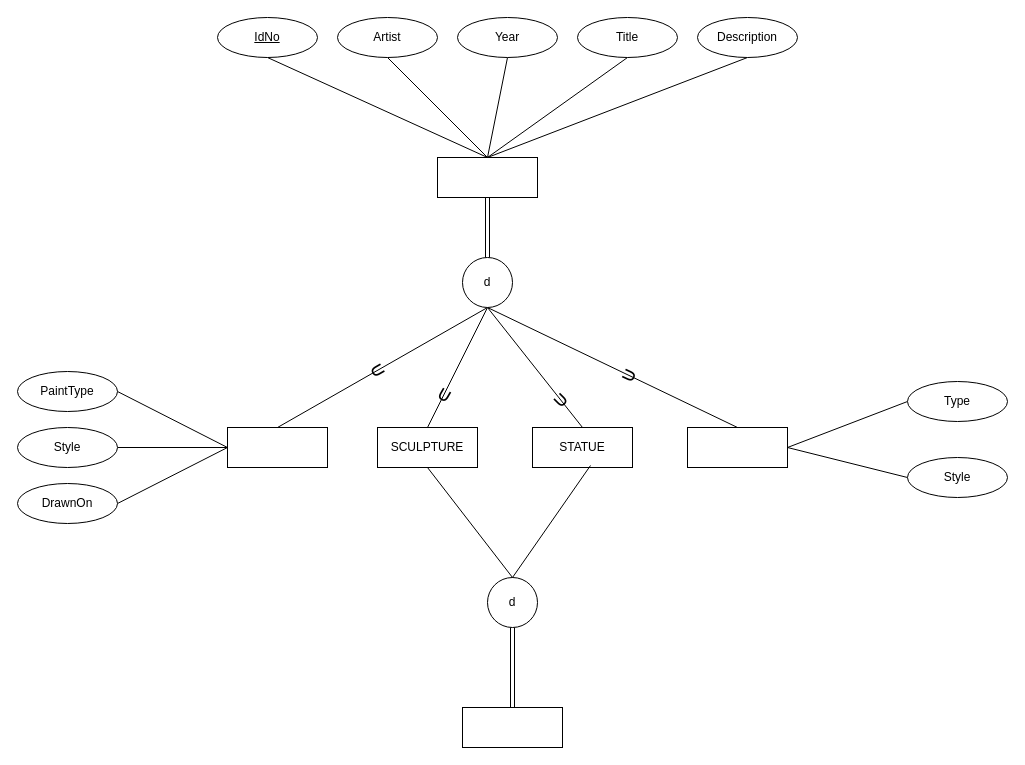
Some shapes in this 1025 by 765 pixel diagram are drawn without their labels. The centre of each missing label's shape, as x and y in pixels:
"ART_OBJECTS" goes at (x=487, y=177).
"FIGURINE" goes at (x=512, y=727).
"OTHER" goes at (x=737, y=447).
"PAINTING" goes at (x=277, y=447).
